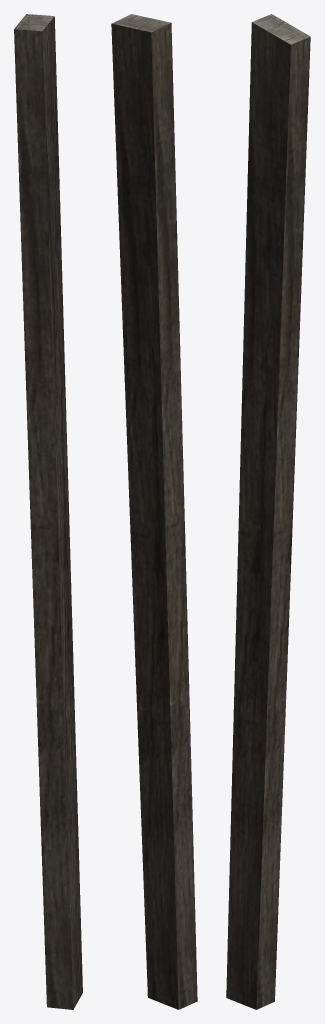
Rendered from eso_gu2_woodpost2-transformed.glb.
The picture shows the model from 3 angles, left to right: view 1: azimuth 90°, elevation 25°; view 2: azimuth 150°, elevation 25°; view 3: azimuth 330°, elevation 25°; orthographic projection. The views are drawn at different scales.
Visible parts, largest first — view 1: default; view 2: default; view 3: default.
Boxes of the visible parts, <box> form: default: <box>14,14,82,1009</box>; default: <box>111,14,197,1009</box>; default: <box>226,14,310,1009</box>.
Bounding box in the file's own units: 0.6215 × 9.39 × 0.6031.
1 material, 1 textured.
